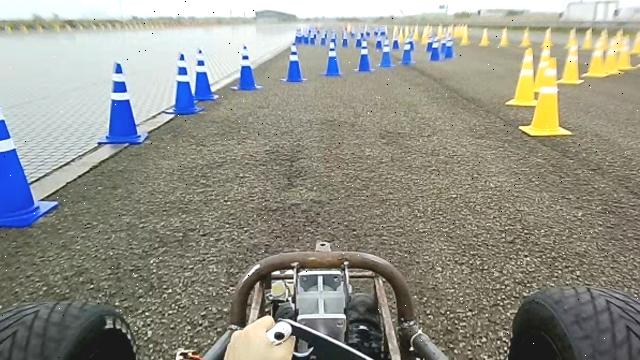blue cone: (0, 89, 59, 228), (96, 61, 148, 145), (166, 52, 194, 115), (230, 44, 263, 91), (196, 48, 219, 101), (279, 43, 307, 83), (322, 40, 342, 77), (354, 40, 374, 72), (378, 42, 395, 68), (398, 43, 416, 65), (429, 43, 441, 60), (444, 40, 454, 58)
yellow cone: (527, 56, 568, 137), (504, 47, 538, 107), (532, 41, 558, 91), (580, 33, 607, 78), (557, 45, 584, 85), (604, 40, 624, 78)
